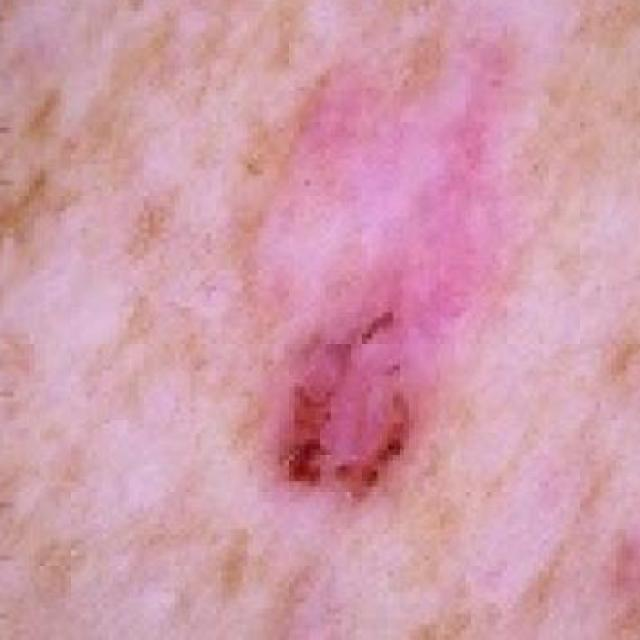BCC: (223, 20, 640, 510)
